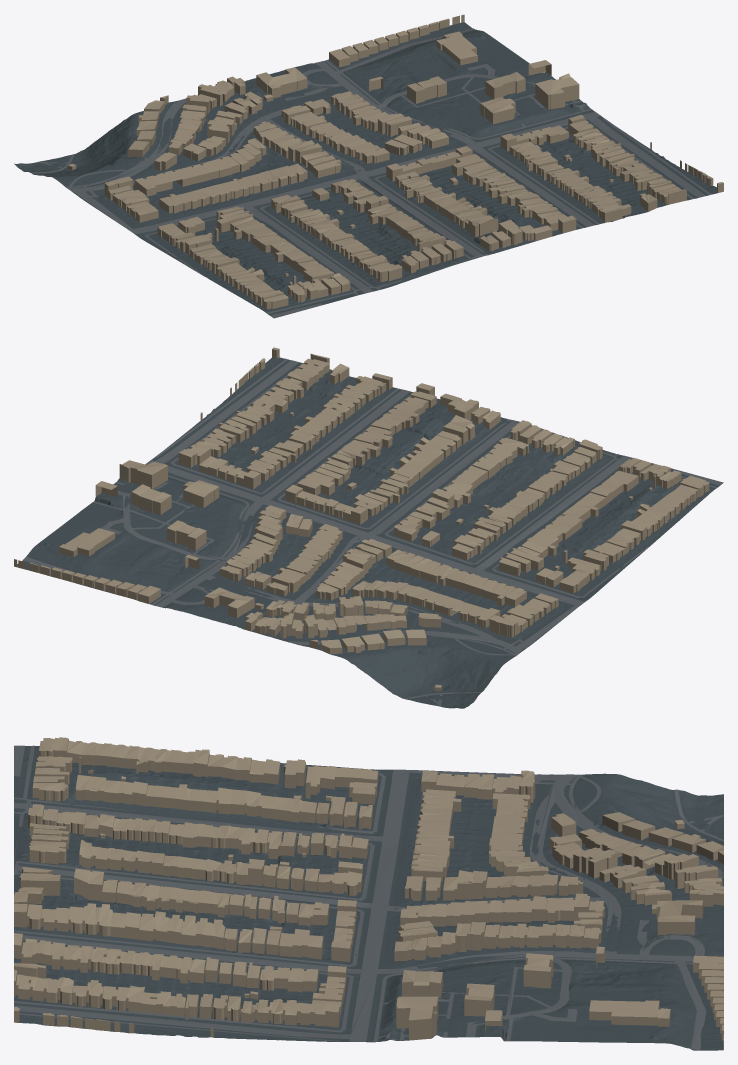
Rendered from epsg26910-1419-10877.lod0.glb.
The picture shows the model from 3 angles, top to bottom: view 1: azimuth 30°, elevation 25°; view 2: azimuth 150°, elevation 25°; view 3: azimuth 270°, elevation 25°; orthographic projection. The views are drawn at different scales.
Visible parts, largest first — view 1: epsg26910-1419-10877-lod0; view 2: epsg26910-1419-10877-lod0; view 3: epsg26910-1419-10877-lod0.
Part boxes in pixels (<box>): epsg26910-1419-10877-lod0: <box>14,14,723,318</box>; epsg26910-1419-10877-lod0: <box>14,347,723,708</box>; epsg26910-1419-10877-lod0: <box>14,737,723,1050</box>.
Size of the model in its own units: 384 by 56.3 by 384.
